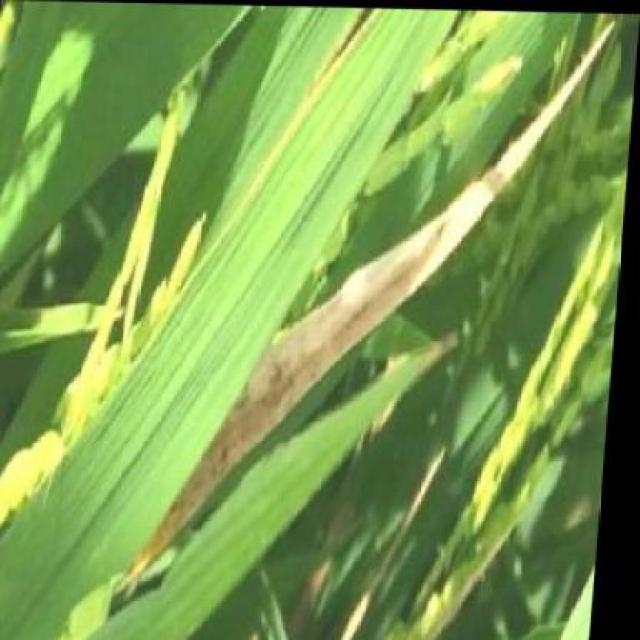Brown_Spot: (250, 6, 395, 197)
